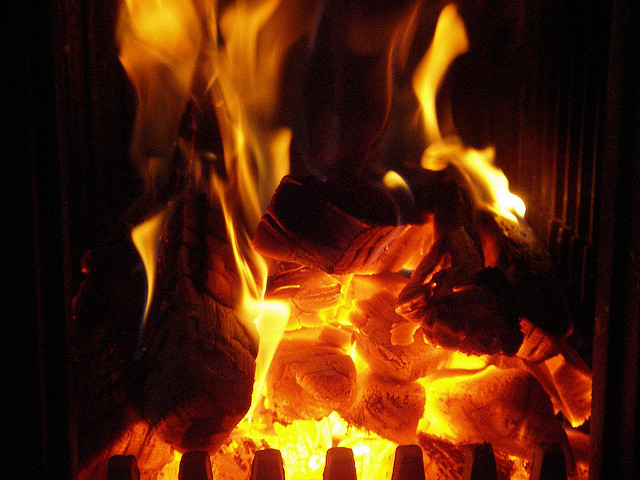fire: (44, 6, 601, 478)
